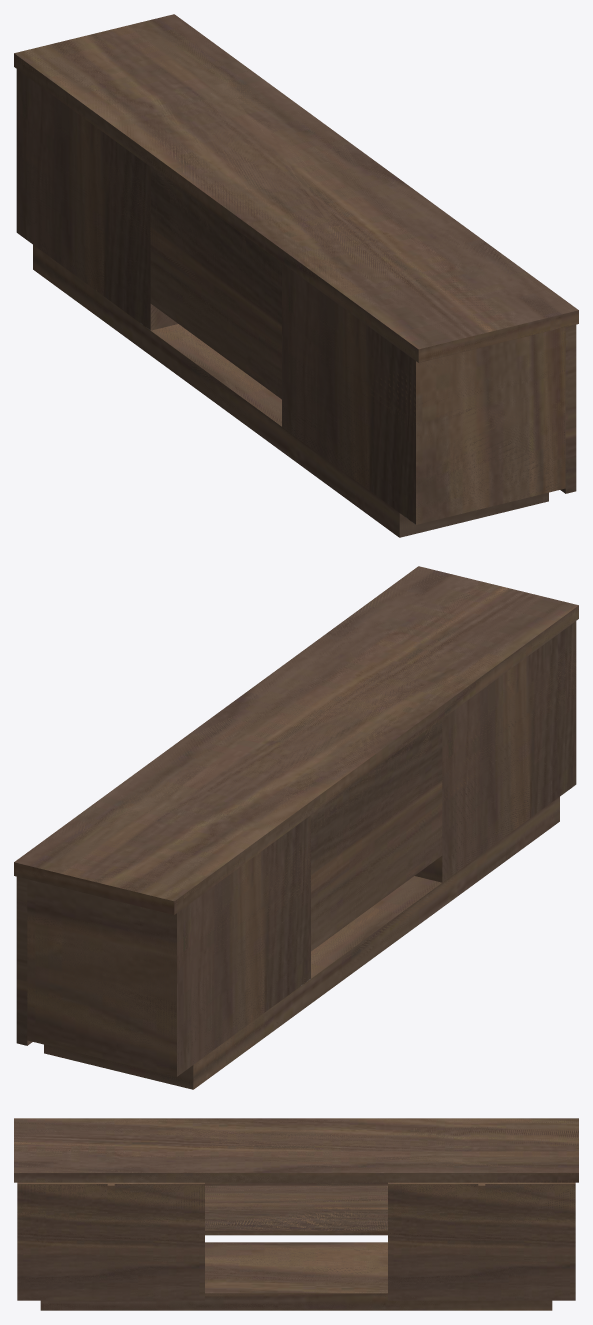
Rendered from tv_table.dae.
The picture shows the model from 3 angles, top to bottom: view 1: azimuth 30°, elevation 25°; view 2: azimuth 150°, elevation 25°; view 3: azimuth 270°, elevation 25°; orthographic projection. The views are drawn at different scales.
Visible parts, largest first — view 1: group_3, group_1, group_2, instance_0, group_0, group_4; view 2: group_3, group_2, group_1, instance_0, group_0, group_5; view 3: group_3, group_4, group_5, group_0, instance_0.
Boxes of the visible parts, <box> form: group_3: <box>14,14,578,362</box>; group_1: <box>282,263,565,524</box>; group_2: <box>16,69,177,330</box>; instance_0: <box>150,167,281,399</box>; group_0: <box>33,245,548,537</box>; group_4: <box>560,324,576,493</box>; group_3: <box>14,566,578,914</box>; group_2: <box>27,815,310,1076</box>; group_1: <box>415,621,576,882</box>; instance_0: <box>311,719,442,951</box>; group_0: <box>44,797,559,1089</box>; group_5: <box>16,876,32,1045</box>; group_3: <box>14,1118,578,1182</box>; group_4: <box>17,1182,204,1300</box>; group_5: <box>388,1182,575,1300</box>; group_0: <box>40,1242,552,1310</box>; instance_0: <box>205,1182,387,1235</box>.
Size of the model in its own units: 0.38 by 1.62 by 0.446.
5 materials, 5 textured.
